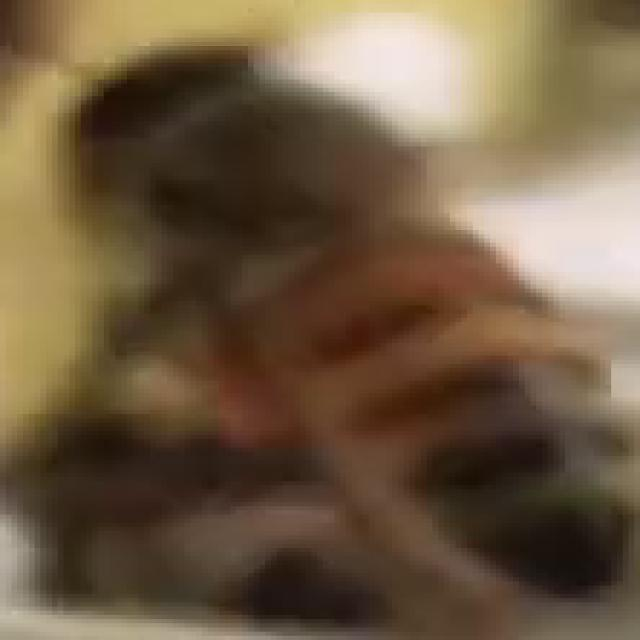honeybee: (71, 38, 639, 640)
